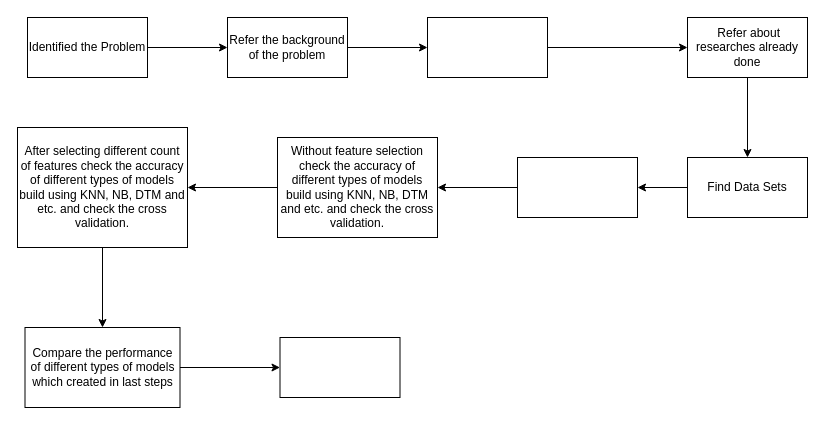
This 825x425 diagram has some shape labels left out. The centre of each missing label's shape, as x and y in pixels:
"Choose a topic" belongs at [487,47].
"Complete Targets" belongs at [577,187].
"Find the best molecule type for detecting DR" belongs at [339,367].
